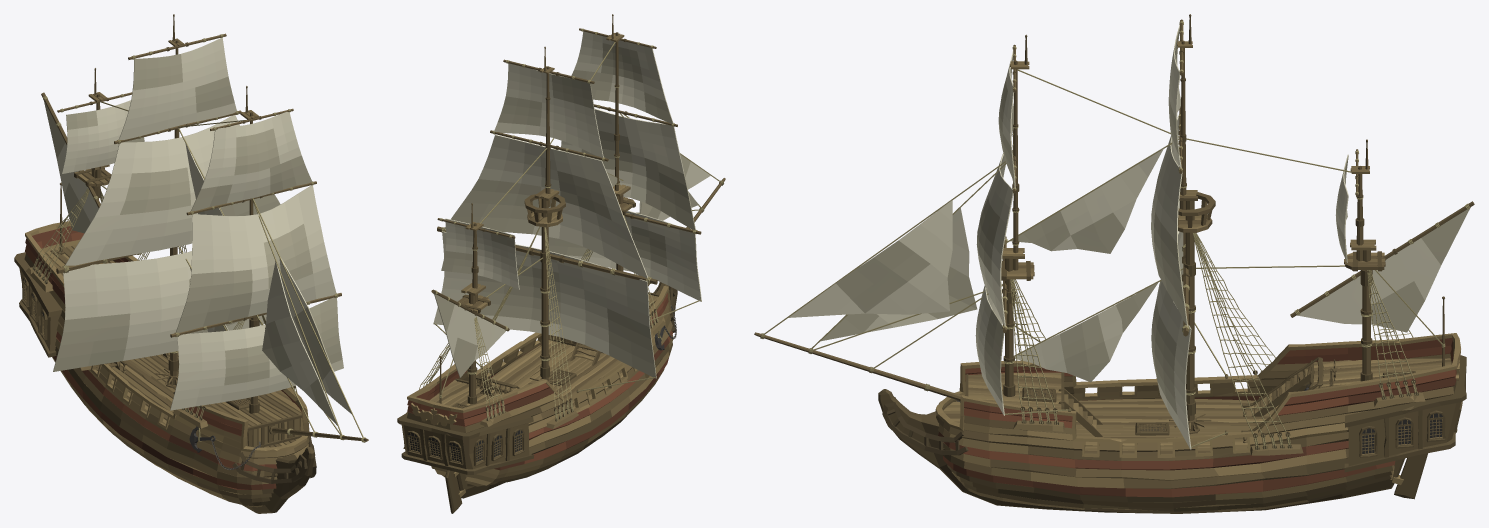
Rendered from BigShip.fbx.
3 views of the same model, side by side, from view 1: azimuth 30°, elevation 25°; view 2: azimuth 150°, elevation 25°; view 3: azimuth 270°, elevation 25° (orthographic). The views are drawn at different scales.
Parts seen in each view (by area): view 1: LargeShip_3_Sails4, LargeShip_3_Sails2, LargeShip_3, LargeShip_3_Sails1, LargeShip_3_Sails5, LargeShip_3_Mast2, LargeShip_3_Mast1, LargeShip_3_Mast3, LargeShip_3_Sails3; view 2: LargeShip_3_Sails4, LargeShip_3, LargeShip_3_Sails2, LargeShip_3_Sails5, LargeShip_3_Mast2, LargeShip_3_Mast1, LargeShip_3_Mast3, LargeShip_3_Sails1; view 3: LargeShip_3, LargeShip_3_Sails1, LargeShip_3_Sails3, LargeShip_3_Sails4, LargeShip_3_Sails5, LargeShip_3_Sails2, LargeShip_3_Mast2, LargeShip_3_Mast3, LargeShip_3_Mast1.
Part boxes in pixels (<box>): LargeShip_3_Sails4: <box>53,37,280,371</box>; LargeShip_3_Sails2: <box>170,112,343,410</box>; LargeShip_3: <box>14,101,368,513</box>; LargeShip_3_Sails1: <box>262,258,351,425</box>; LargeShip_3_Sails5: <box>44,100,144,233</box>; LargeShip_3_Mast2: <box>56,14,241,388</box>; LargeShip_3_Mast1: <box>170,86,341,413</box>; LargeShip_3_Mast3: <box>41,68,132,264</box>; LargeShip_3_Sails3: <box>185,143,228,332</box>; LargeShip_3_Sails4: <box>433,63,656,378</box>; LargeShip_3: <box>397,42,725,513</box>; LargeShip_3_Sails2: <box>548,31,701,301</box>; LargeShip_3_Sails5: <box>434,218,519,377</box>; LargeShip_3_Mast2: <box>437,46,657,385</box>; LargeShip_3_Mast1: <box>579,14,701,271</box>; LargeShip_3_Mast3: <box>431,203,515,404</box>; LargeShip_3_Sails1: <box>639,154,710,220</box>; LargeShip_3: <box>754,69,1466,513</box>; LargeShip_3_Sails1: <box>788,200,977,341</box>; LargeShip_3_Sails3: <box>1010,148,1163,382</box>; LargeShip_3_Sails4: <box>1151,25,1191,449</box>; LargeShip_3_Sails5: <box>1297,154,1469,332</box>; LargeShip_3_Sails2: <box>975,50,1015,415</box>; LargeShip_3_Mast2: <box>1169,14,1215,434</box>; LargeShip_3_Mast3: <box>1290,139,1474,381</box>; LargeShip_3_Mast1: <box>1001,34,1034,396</box>.
Size of the model in its own units: 2093 by 3684 by 4819.
